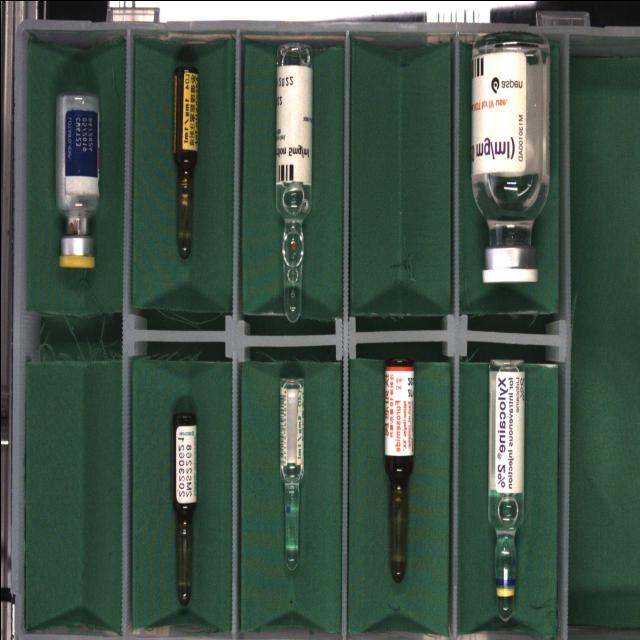Vials: (471, 34, 549, 282), (55, 93, 98, 267)
